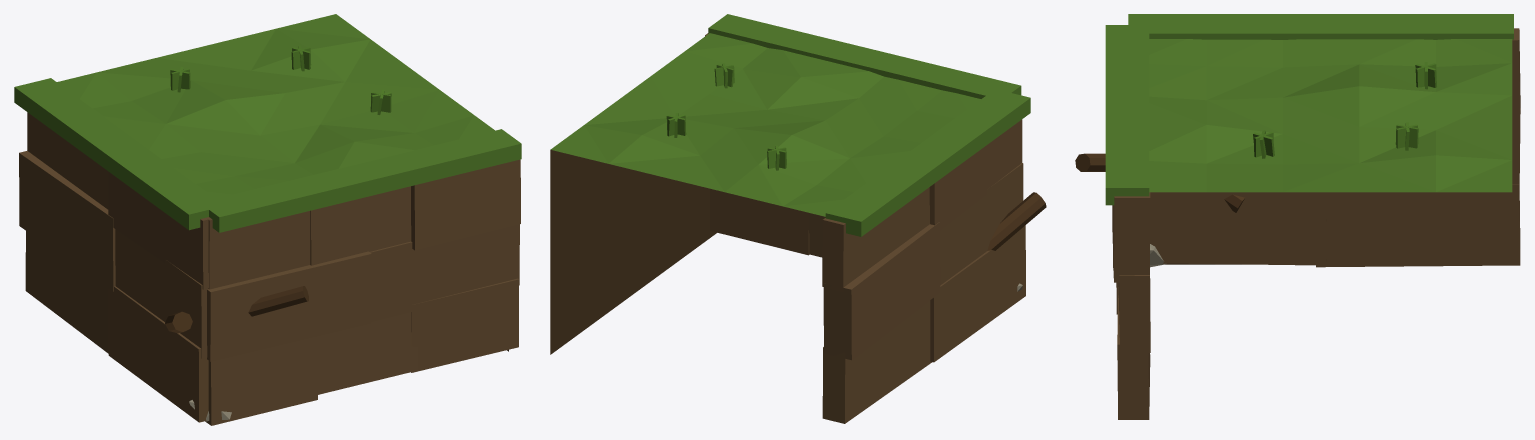
The model's file is SM_Terrain_Rustic_01_Corner.glb.
3 views of the same model, side by side, from view 1: azimuth 30°, elevation 25°; view 2: azimuth 150°, elevation 25°; view 3: azimuth 270°, elevation 25° (orthographic). The views are drawn at different scales.
Parts seen in each view (by area): view 1: SM_Terrain_Rustic_01_Corner_Bank, SM_Terrain_Rustic_01_Corner_StrataY10, SM_Terrain_Rustic_01_Corner_LipY, SM_Terrain_Rustic_01_Corner_LipX, SM_Terrain_Rustic_01_Corner_StrataY11, SM_Terrain_Rustic_01_Corner_StrataX11, SM_Terrain_Rustic_01_Corner_StrataX00, SM_Terrain_Rustic_01_Corner_StrataY02, SM_Terrain_Rustic_01_Corner_StrataY22, SM_Terrain_Rustic_01_Corner_StrataY00, SM_Terrain_Rustic_01_Corner_StrataY01, SM_Terrain_Rustic_01_Corner_StrataY20 (+6 smaller); view 2: SM_Terrain_Rustic_01_Corner_Bank, SM_Terrain_Rustic_01_Corner_StrataX11, SM_Terrain_Rustic_01_Corner_LipX, SM_Terrain_Rustic_01_Corner_LipY, SM_Terrain_Rustic_01_Corner_StrataX01, SM_Terrain_Rustic_01_Corner_StrataX00, SM_Terrain_Rustic_01_Corner_StrataX21, SM_Terrain_Rustic_01_Corner_StrataX20, SM_Terrain_Rustic_01_Corner_StrataX10, SM_Terrain_Rustic_01_Corner_StrataY02, SM_Terrain_Rustic_01_Corner_KnotA, SM_Terrain_Rustic_01_Corner_StrataY01; view 3: SM_Terrain_Rustic_01_Corner_Bank, SM_Terrain_Rustic_01_Corner_StrataX01, SM_Terrain_Rustic_01_Corner_StrataX00, SM_Terrain_Rustic_01_Corner_LipX, SM_Terrain_Rustic_01_Corner_LipY, SM_Terrain_Rustic_01_Corner_StrataY22, SM_Terrain_Rustic_01_Corner_StrataY11, SM_Terrain_Rustic_01_Corner_StrataY02, SM_Terrain_Rustic_01_Corner_StrataX21, SM_Terrain_Rustic_01_Corner_StrataX11, SM_Terrain_Rustic_01_Corner_KnotB.
Boxes of the visible parts, <box> form: SM_Terrain_Rustic_01_Corner_Bank: <box>57,14,508,351</box>; SM_Terrain_Rustic_01_Corner_StrataY10: <box>207,251,371,361</box>; SM_Terrain_Rustic_01_Corner_LipY: <box>200,129,521,232</box>; SM_Terrain_Rustic_01_Corner_LipX: <box>14,78,224,230</box>; SM_Terrain_Rustic_01_Corner_StrataY11: <box>370,224,519,321</box>; SM_Terrain_Rustic_01_Corner_StrataX11: <box>19,151,115,291</box>; SM_Terrain_Rustic_01_Corner_StrataX00: <box>108,286,208,422</box>; SM_Terrain_Rustic_01_Corner_StrataY02: <box>411,278,519,372</box>; SM_Terrain_Rustic_01_Corner_StrataY22: <box>411,159,520,250</box>; SM_Terrain_Rustic_01_Corner_StrataY00: <box>205,336,317,425</box>; SM_Terrain_Rustic_01_Corner_StrataY01: <box>317,312,417,394</box>; SM_Terrain_Rustic_01_Corner_StrataY20: <box>208,211,310,289</box>; SM_Terrain_Rustic_01_Corner_Bank: <box>550,33,980,354</box>; SM_Terrain_Rustic_01_Corner_StrataX11: <box>823,222,940,360</box>; SM_Terrain_Rustic_01_Corner_LipX: <box>825,92,1030,236</box>; SM_Terrain_Rustic_01_Corner_LipY: <box>708,14,1021,99</box>; SM_Terrain_Rustic_01_Corner_StrataX01: <box>822,300,932,423</box>; SM_Terrain_Rustic_01_Corner_StrataX00: <box>930,225,1025,362</box>; SM_Terrain_Rustic_01_Corner_StrataX21: <box>822,187,929,291</box>; SM_Terrain_Rustic_01_Corner_StrataX20: <box>929,119,1022,230</box>; SM_Terrain_Rustic_01_Corner_StrataX10: <box>940,163,1023,285</box>; SM_Terrain_Rustic_01_Corner_StrataY02: <box>710,188,809,255</box>; SM_Terrain_Rustic_01_Corner_KnotA: <box>987,192,1046,250</box>; SM_Terrain_Rustic_01_Corner_StrataY01: <box>809,213,825,257</box>; SM_Terrain_Rustic_01_Corner_Bank: <box>1149,39,1512,264</box>; SM_Terrain_Rustic_01_Corner_StrataX01: <box>1316,184,1520,267</box>; SM_Terrain_Rustic_01_Corner_StrataX00: <box>1150,192,1326,265</box>; SM_Terrain_Rustic_01_Corner_LipX: <box>1128,14,1513,39</box>; SM_Terrain_Rustic_01_Corner_LipY: <box>1105,25,1149,205</box>; SM_Terrain_Rustic_01_Corner_StrataY22: <box>1112,192,1150,282</box>; SM_Terrain_Rustic_01_Corner_StrataY11: <box>1118,275,1150,353</box>; SM_Terrain_Rustic_01_Corner_StrataY02: <box>1117,287,1150,419</box>; SM_Terrain_Rustic_01_Corner_StrataX21: <box>1512,28,1520,115</box>; SM_Terrain_Rustic_01_Corner_StrataX11: <box>1512,108,1520,190</box>; SM_Terrain_Rustic_01_Corner_KnotB: <box>1075,153,1105,171</box>.
Bounding box in the file's own units: 2.29 × 1.48 × 2.33.
